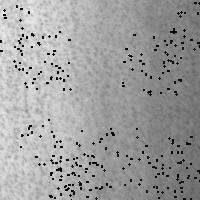pitted_surface: (4, 1, 196, 196), (76, 128, 136, 187), (122, 34, 180, 93), (13, 31, 69, 88), (43, 142, 93, 200), (138, 136, 190, 191), (20, 119, 78, 163), (50, 162, 106, 200), (146, 161, 200, 200), (170, 2, 200, 62), (0, 0, 31, 53)
